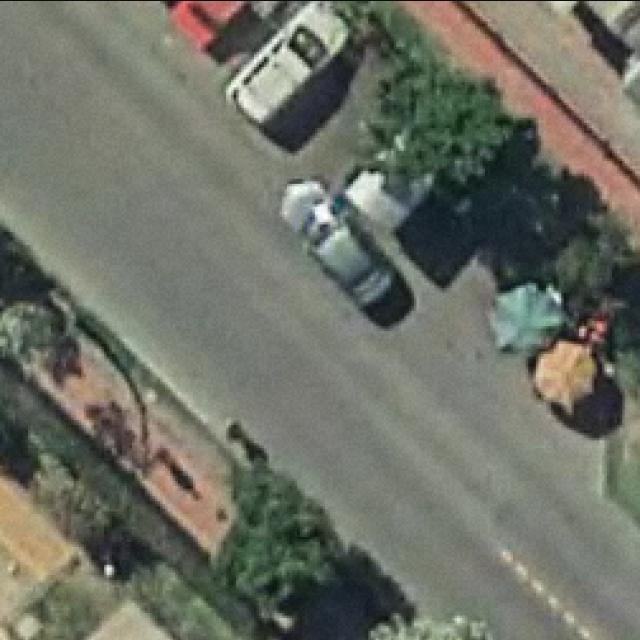vendedor_ambulante: (488, 280, 566, 352), (530, 334, 604, 409)
